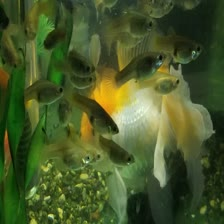Guppy: (111, 46, 165, 86), (70, 91, 119, 135), (150, 29, 208, 65), (34, 146, 94, 173), (98, 10, 156, 37), (95, 133, 134, 164), (19, 79, 65, 104), (0, 29, 19, 70), (20, 0, 37, 40)
